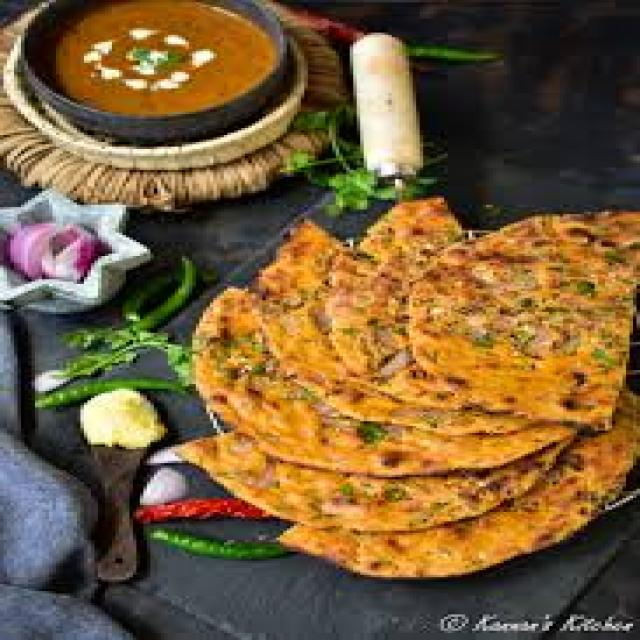ROTI: (172, 199, 637, 581)
